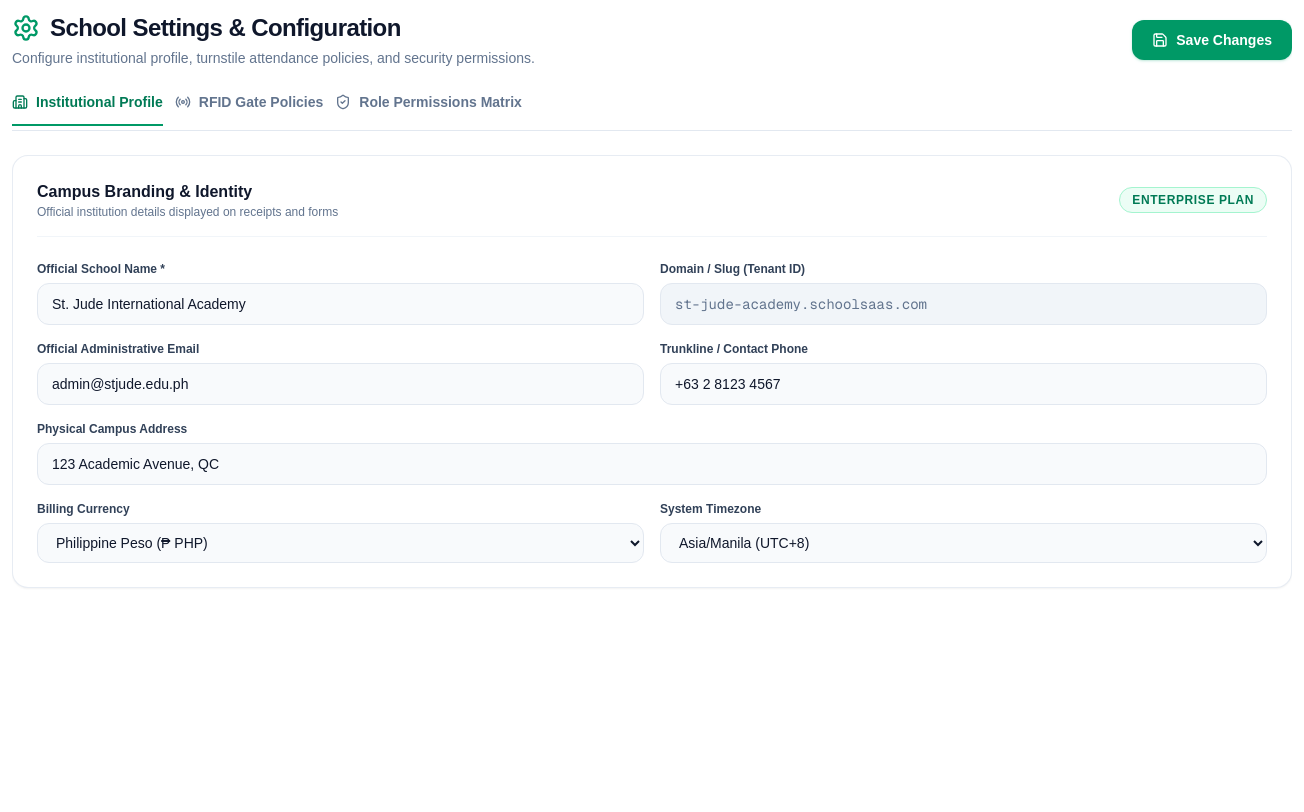
SettingsPage › submits updated settings and displays success message
Expected: the field showing "St. Jude International Academy" below "Official School Name *" is shown, [37, 283, 644, 325]
Click the button "Save Changes".
click(1212, 40)  # box [1132, 20, 1292, 60]
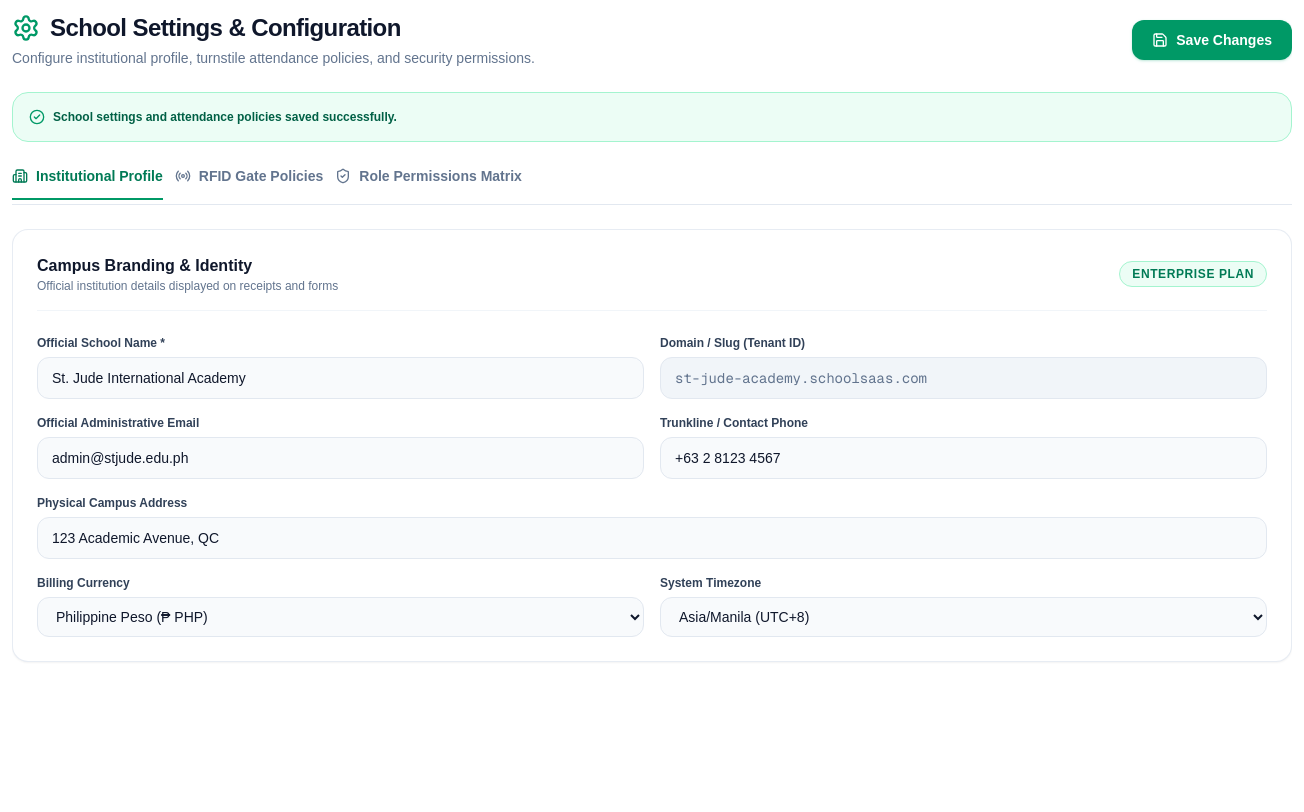
Now the text "School settings and attendance policies saved successfully." is shown, box [53, 109, 397, 125]
